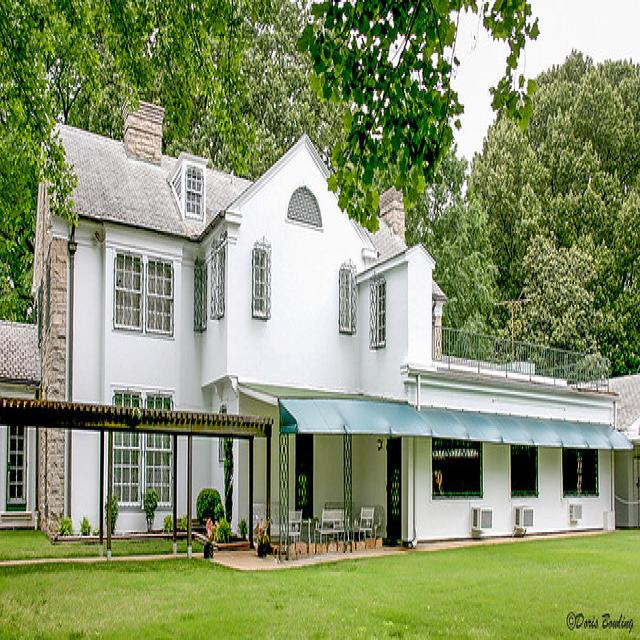Normal_building: (32, 85, 442, 557)
